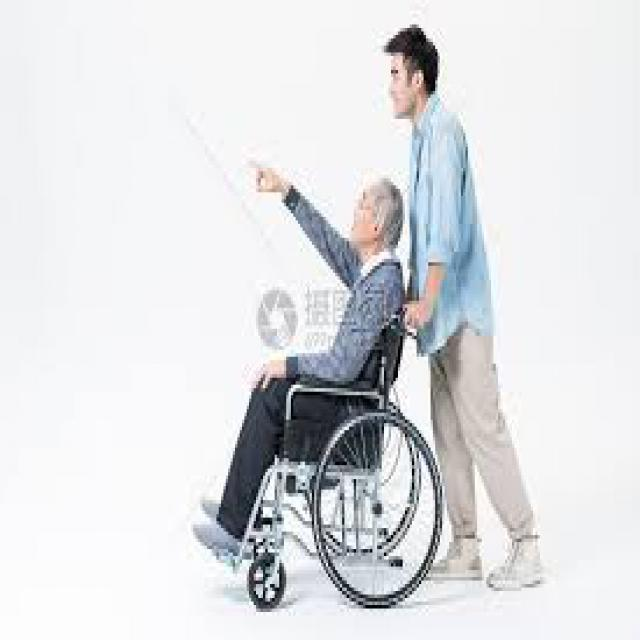wheelchairs: (212, 287, 461, 619)
